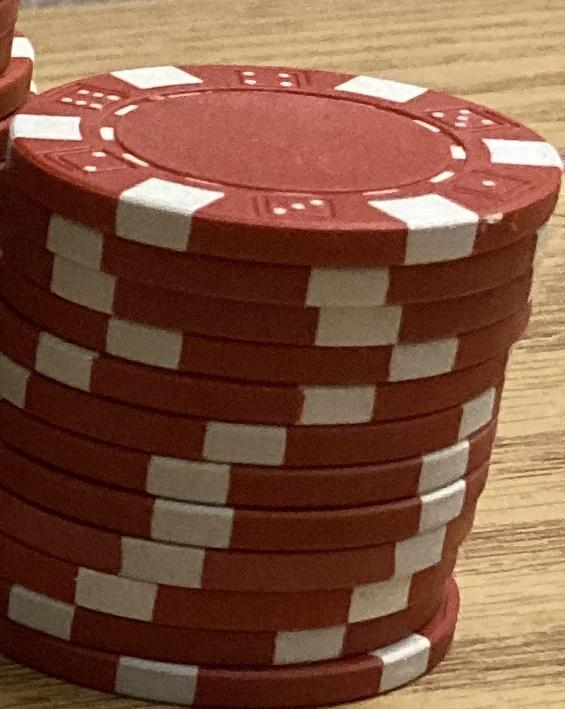Chip: (1, 1, 565, 709)
